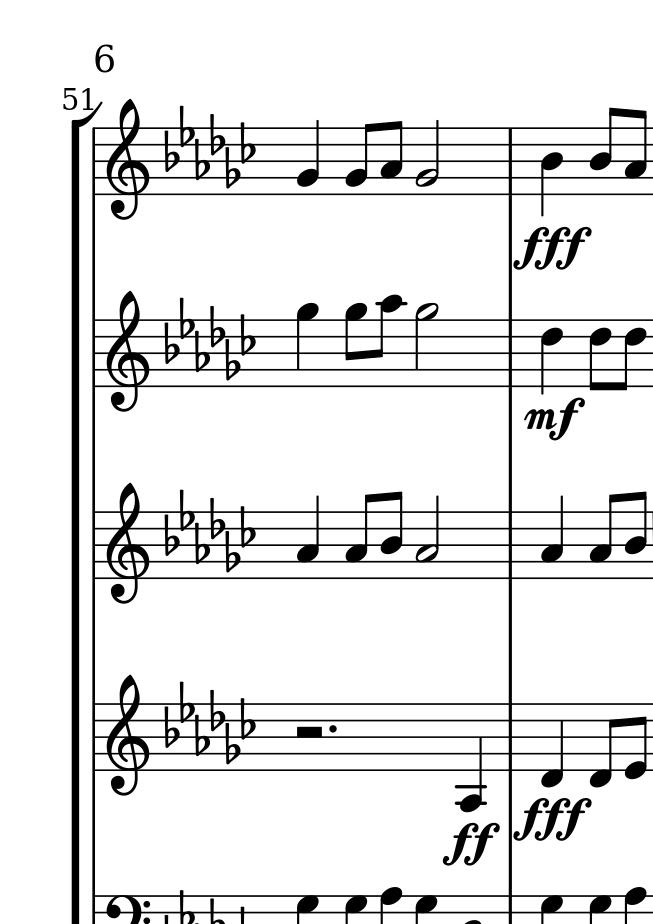2_2: (417, 117, 443, 197)
2_3: (414, 491, 443, 583)
2_9: (412, 301, 443, 391)
4_-1: (538, 701, 566, 791)
4_-4: (456, 699, 487, 813)
4_2: (295, 118, 322, 197)
4_3: (294, 492, 322, 580), (539, 492, 567, 580)
4_4: (538, 126, 564, 218)
4_6: (537, 317, 567, 398)
4_9: (293, 302, 320, 390)
6: (95, 42, 115, 73)
8_-1: (587, 700, 619, 789)
8_0: (624, 702, 647, 781)
8_10: (371, 294, 405, 388)
8_2: (343, 120, 374, 196)
8_3: (342, 491, 376, 581), (589, 491, 620, 581), (624, 109, 648, 197), (379, 119, 403, 197)
8_4: (588, 106, 621, 196), (379, 489, 405, 582), (623, 490, 649, 582)
8_6: (617, 319, 649, 392), (587, 317, 613, 393)
8_9: (342, 302, 368, 388)
G_F: (162, 487, 258, 574), (162, 101, 255, 187), (164, 296, 256, 382), (165, 680, 257, 765)
Gclef: (104, 98, 152, 222), (104, 289, 152, 413), (104, 480, 151, 605), (104, 673, 151, 797)
Rests2: (290, 722, 326, 744)
Single_barline: (501, 513, 520, 577), (502, 319, 518, 388), (503, 129, 519, 193), (86, 322, 101, 386), (88, 704, 102, 770), (88, 129, 102, 194), (87, 515, 101, 576)
dot: (327, 722, 339, 734)
ff: (442, 817, 501, 870)
fff: (512, 222, 596, 276), (513, 794, 595, 848)
mf: (522, 398, 586, 444)
